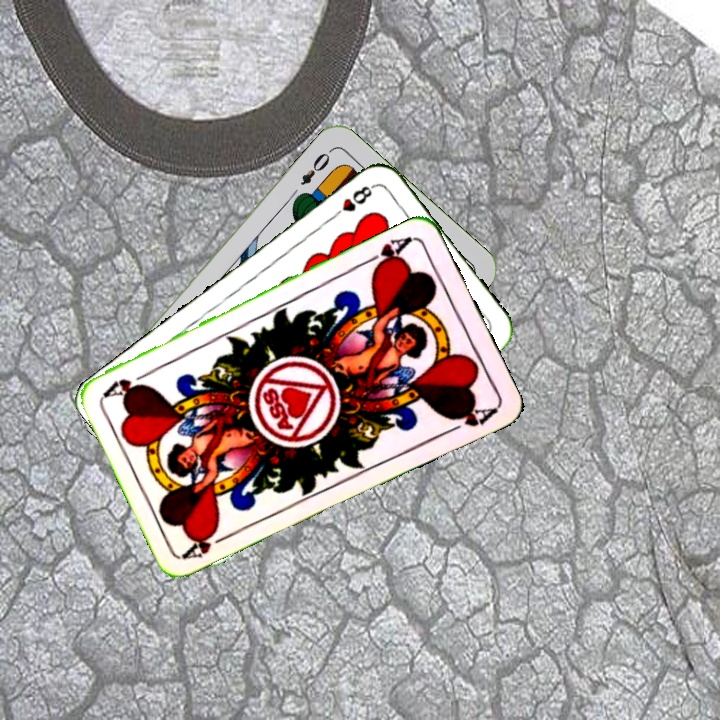EO: (296, 145, 335, 188)
H8: (327, 180, 378, 222)
HA: (361, 232, 417, 275), (180, 526, 236, 562)
